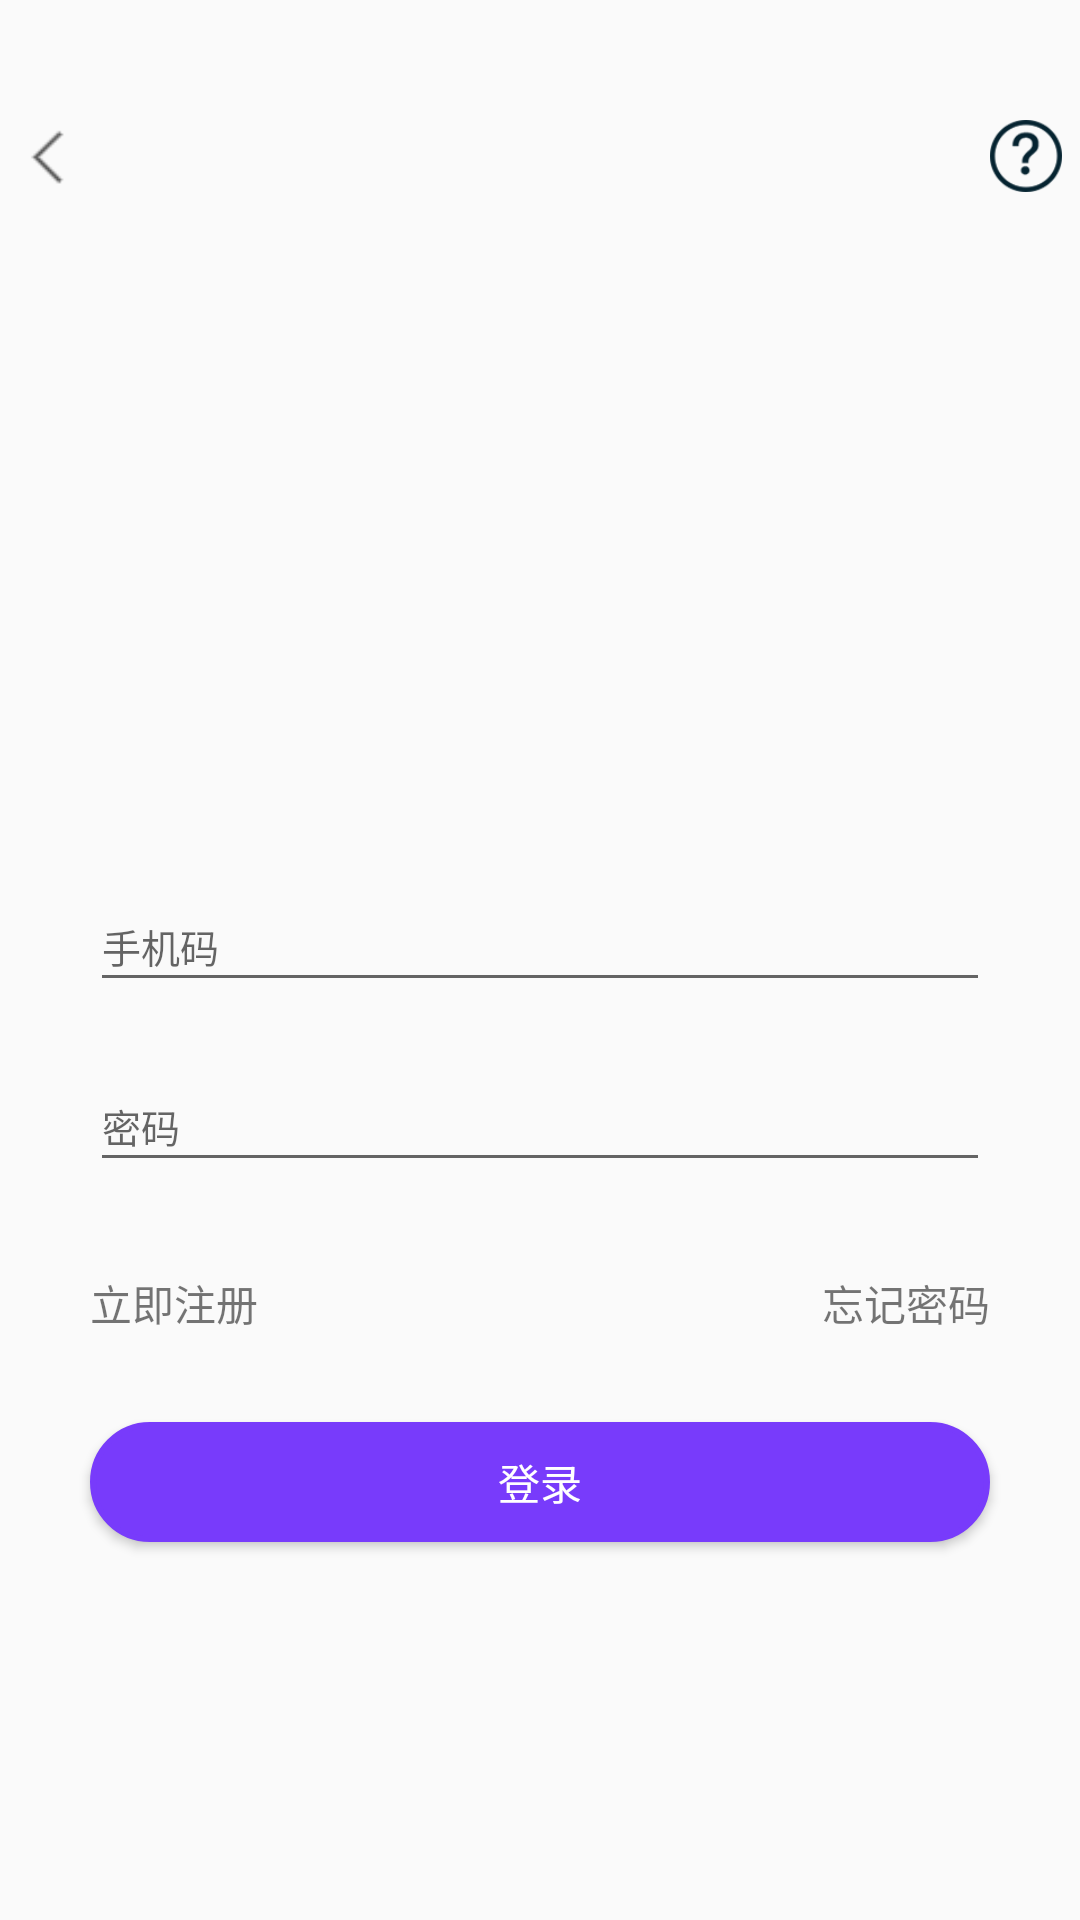

Icons on this 1080px×1920px Android screen, each with the point to tap as point (x, y):
back: point (47, 157)
help: point (1026, 156)
